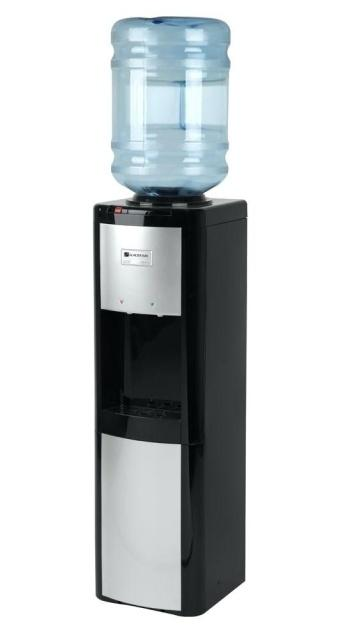Dispenser: (93, 16, 247, 617)
